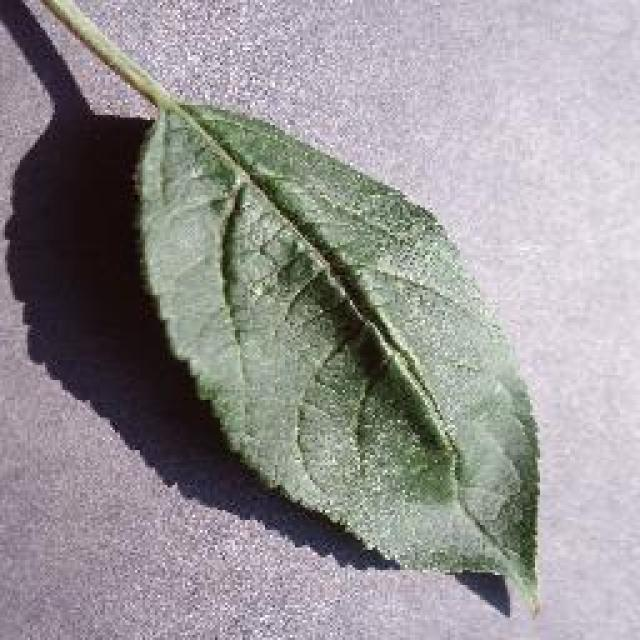apple healthy: (0, 0, 545, 618)
